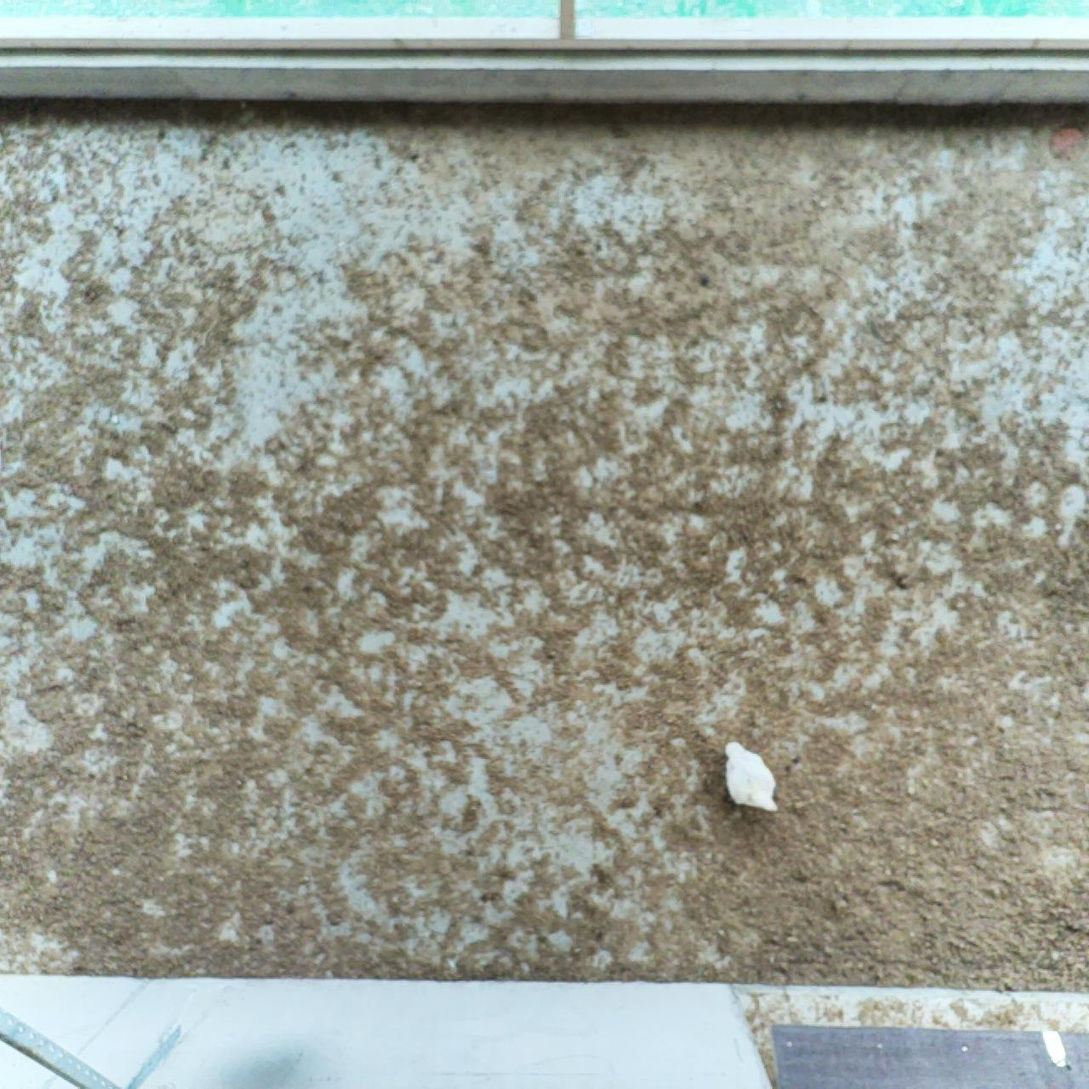chicken: (718, 738, 785, 819)
